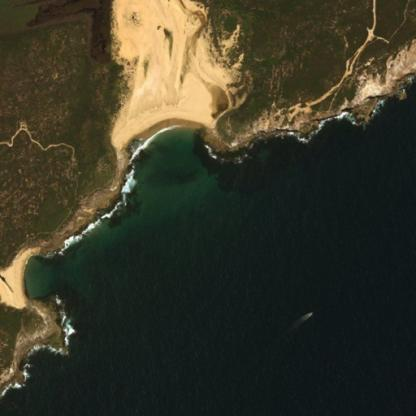ship: (301, 306, 316, 322)
